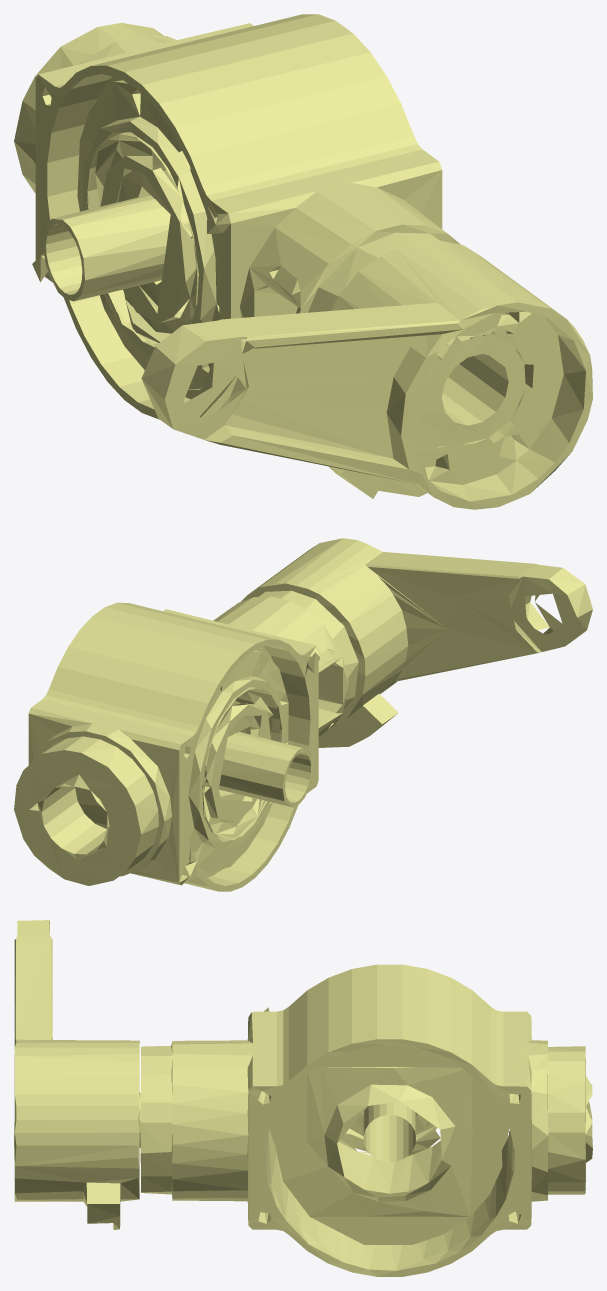
Rendered from ankle_Y_lo_res_reflect.dae.
3 views of the same model, one above another, from view 1: azimuth 30°, elevation 25°; view 2: azimuth 150°, elevation 25°; view 3: azimuth 270°, elevation 25° (orthographic). The views are drawn at different scales.
Visible parts, largest first — view 1: ankle_Y_lo_res; view 2: ankle_Y_lo_res; view 3: ankle_Y_lo_res.
Boxes of the visible parts, x1=… form: ankle_Y_lo_res: x1=14, y1=14, x2=592, y2=509; ankle_Y_lo_res: x1=14, y1=538, x2=592, y2=891; ankle_Y_lo_res: x1=14, y1=920, x2=592, y2=1276.
Size of the model in its own units: 0.1143 by 0.1758 by 0.0796.
